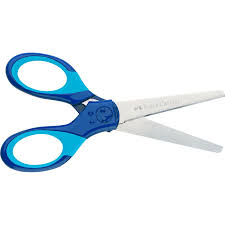tihiras: (2, 40, 224, 173)
